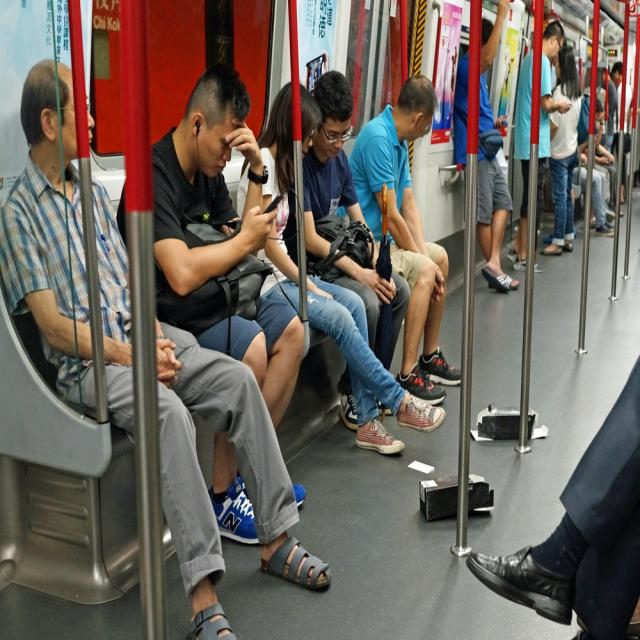body: (0, 53, 333, 636), (111, 58, 315, 552), (235, 80, 447, 457), (461, 258, 639, 634), (282, 69, 412, 430), (348, 65, 470, 410), (446, 0, 520, 299), (511, 18, 572, 270), (575, 61, 639, 238), (538, 44, 584, 258)
